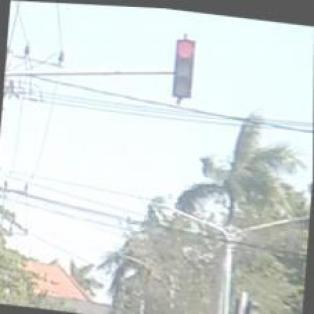Semoforo Rojo: (170, 34, 197, 96)
